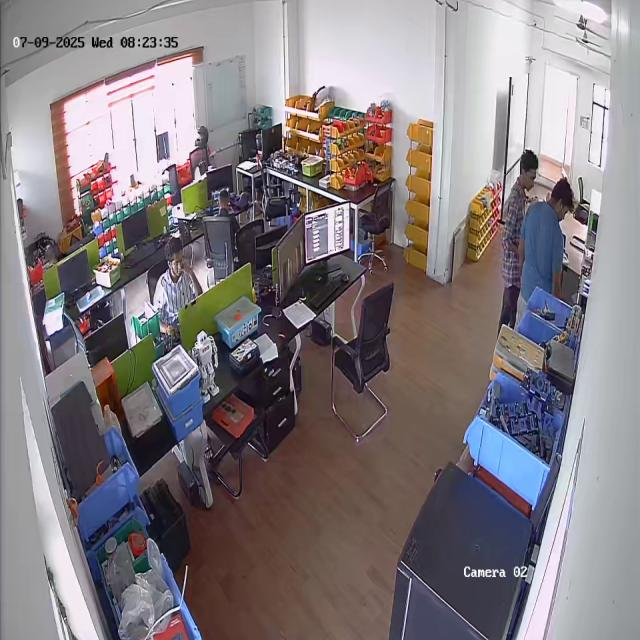person: (492, 147, 538, 327), (522, 171, 578, 303), (155, 235, 200, 327), (214, 188, 244, 240)
